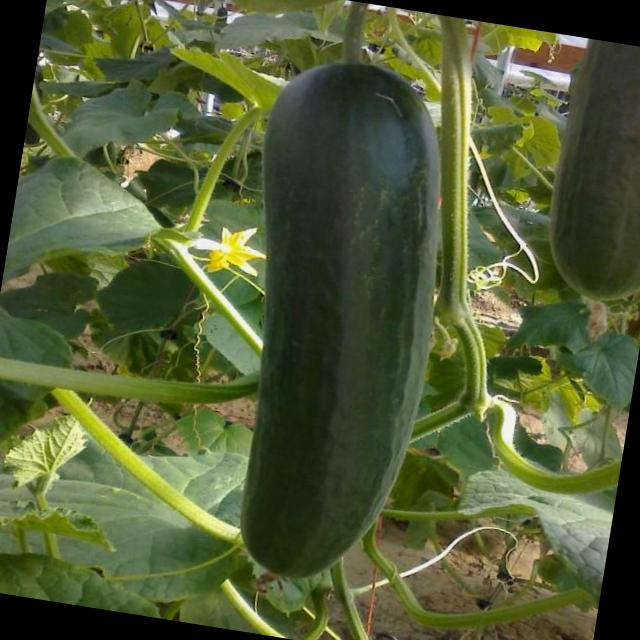Cucumber: (198, 47, 472, 599)
